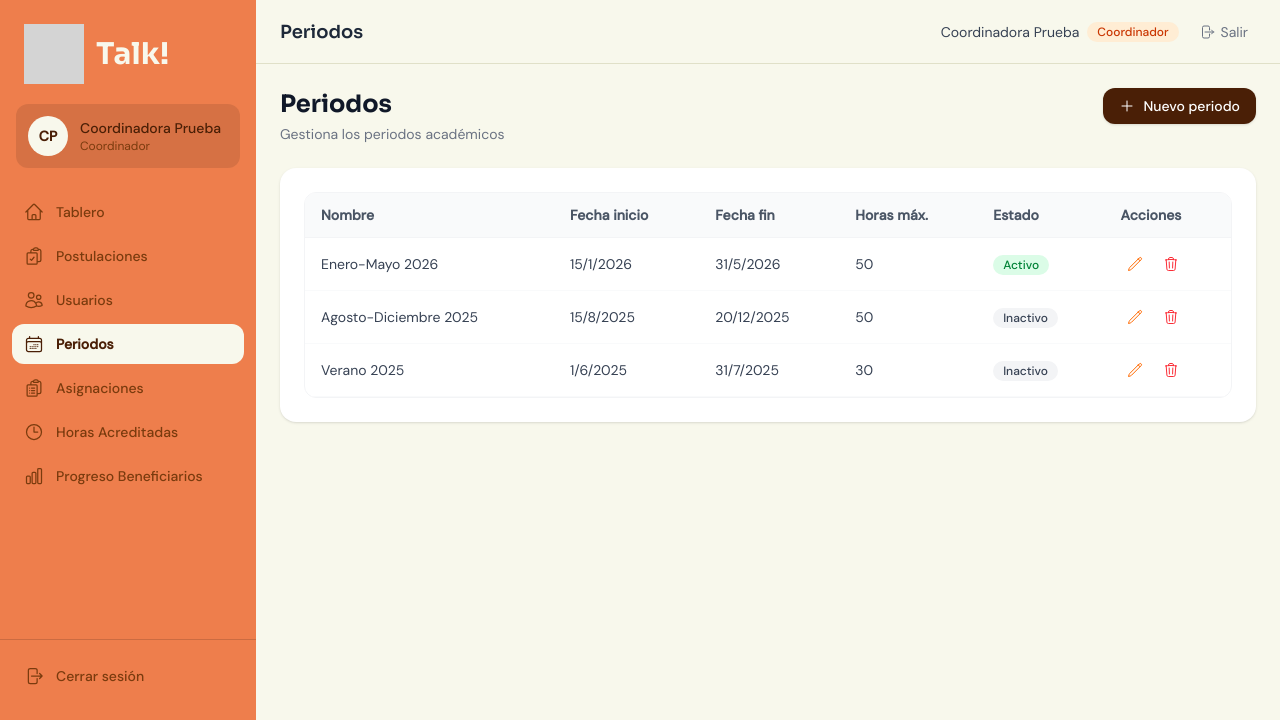
Test: Periodos › shows duplicate conflict feedback when creating periodo
This screenshot has width=1280, height=720.
Click the button "Nuevo periodo": click(1180, 106) [1103, 88, 1256, 124]
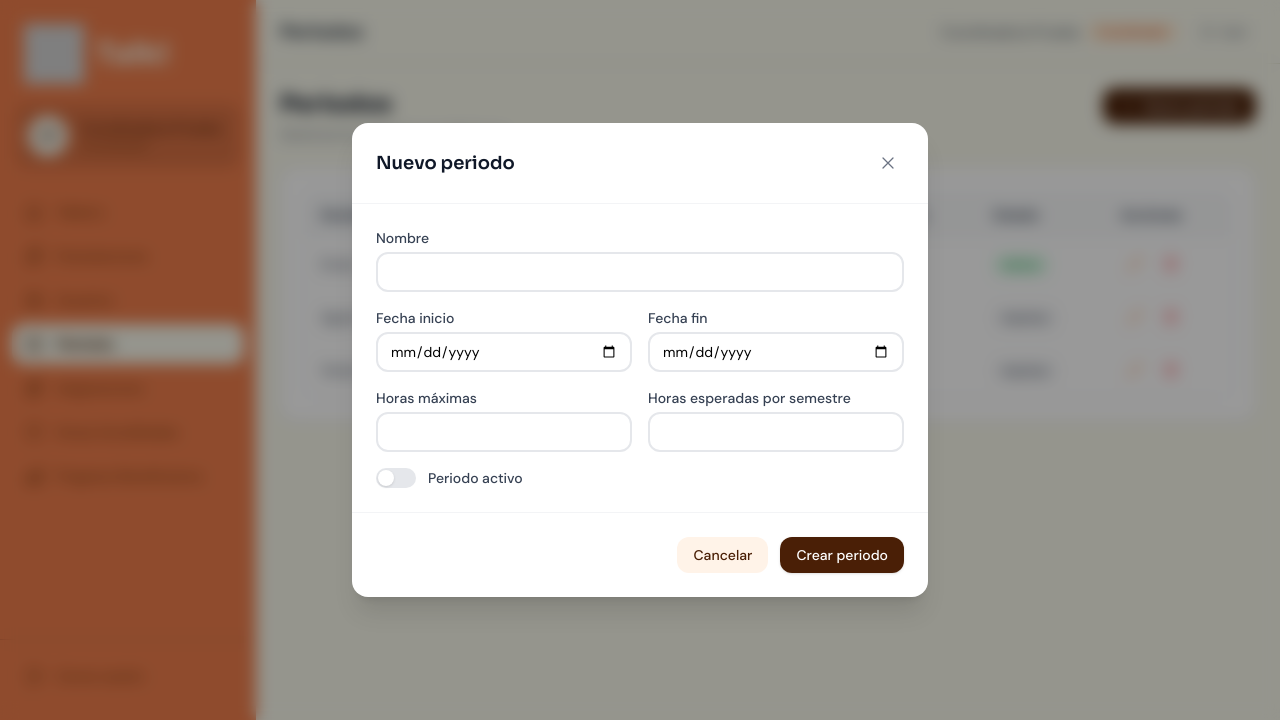
In the field named "nombre": (640, 272) [376, 252, 904, 292], type "Enero-Mayo 2026"
In the 1st date field named "fecha_inicio": (504, 352) [376, 332, 632, 372], type "2026-01-15"
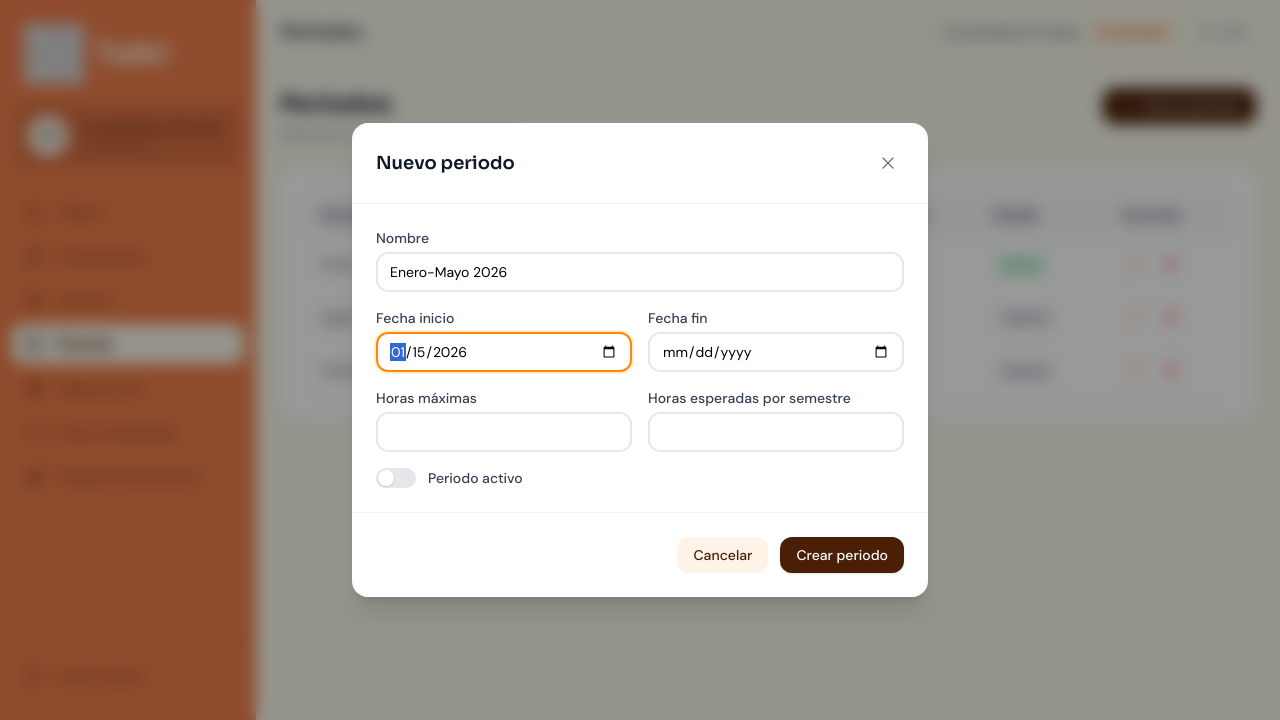
In the 2nd date field named "fecha_fin": (776, 352) [648, 332, 904, 372], type "2026-05-31"
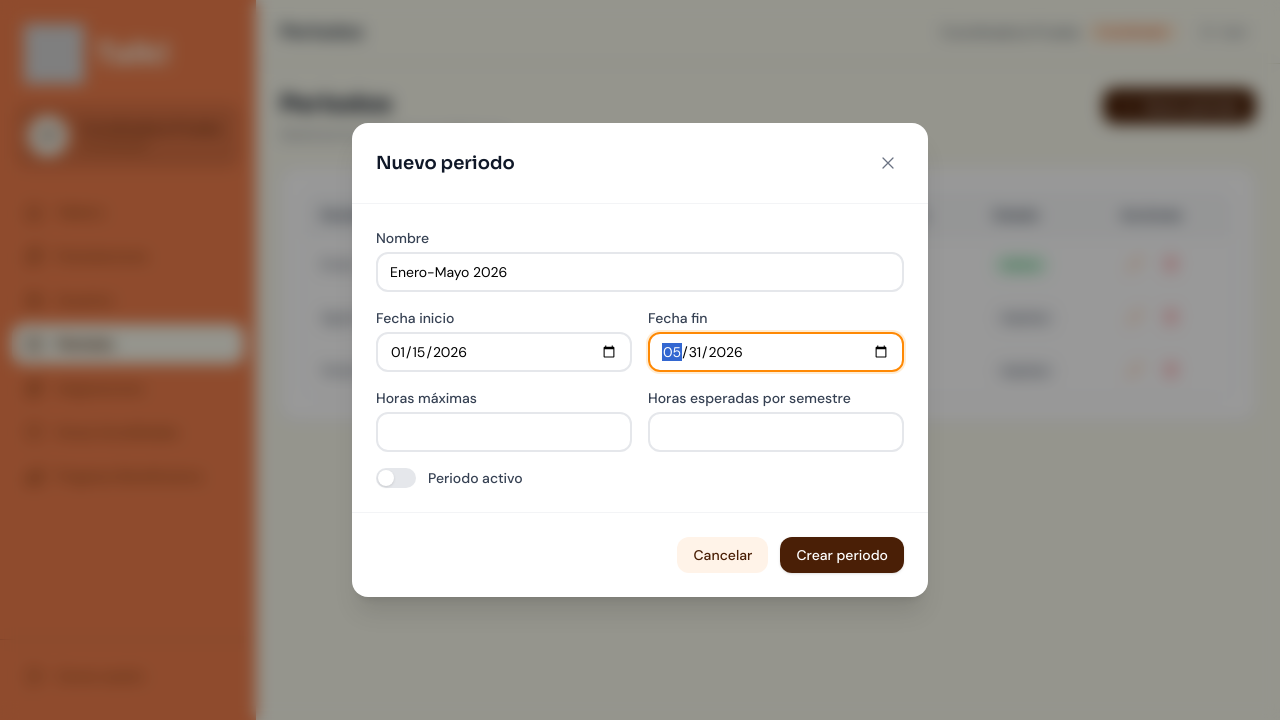
In the number field named "horas_max" below "Horas máximas": (504, 432) [376, 412, 632, 452], type "50"
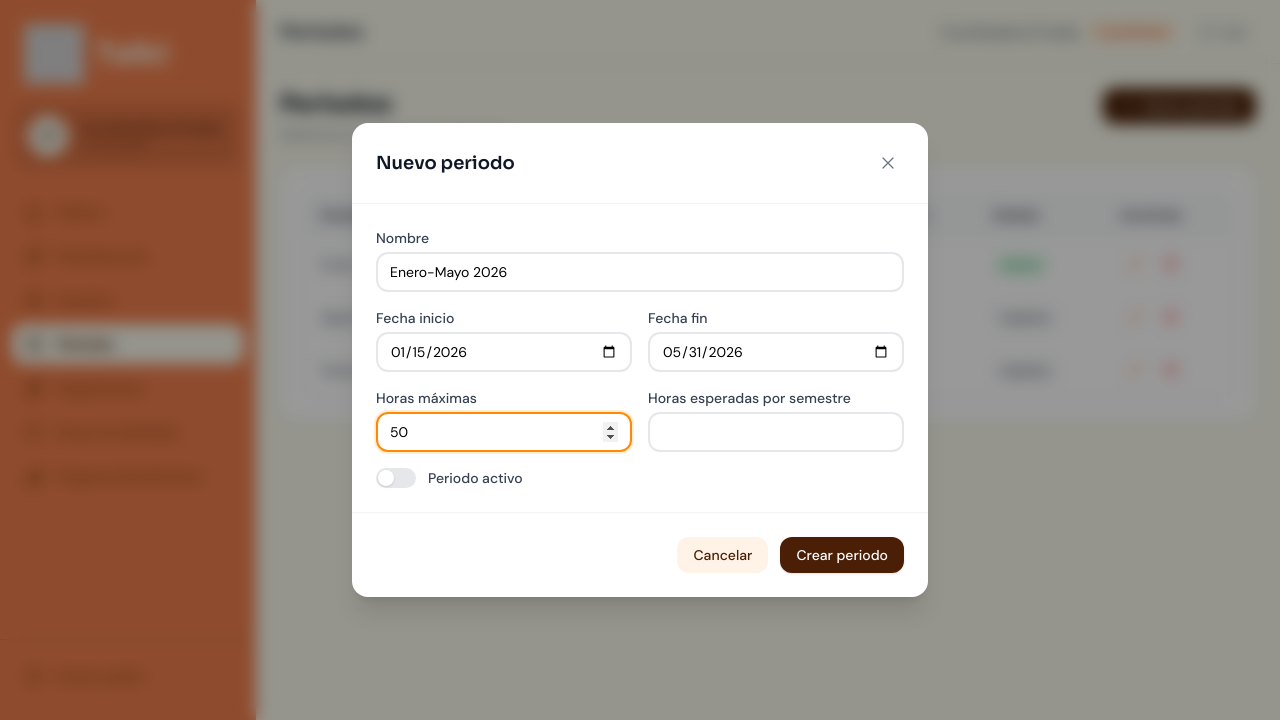
In the number field named "horas_esperadas" below "Horas esperadas por semestre": (776, 432) [648, 412, 904, 452], type "40"
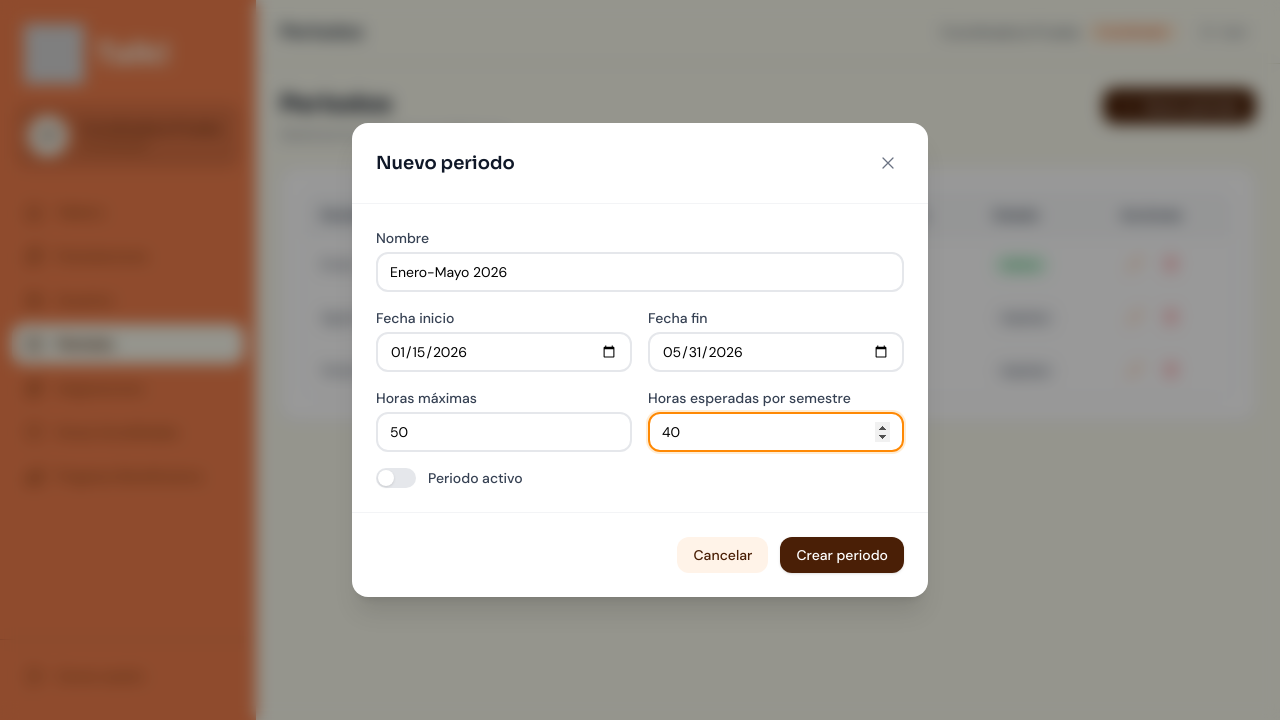
Click the button "Crear periodo": click(842, 555) [780, 537, 904, 573]
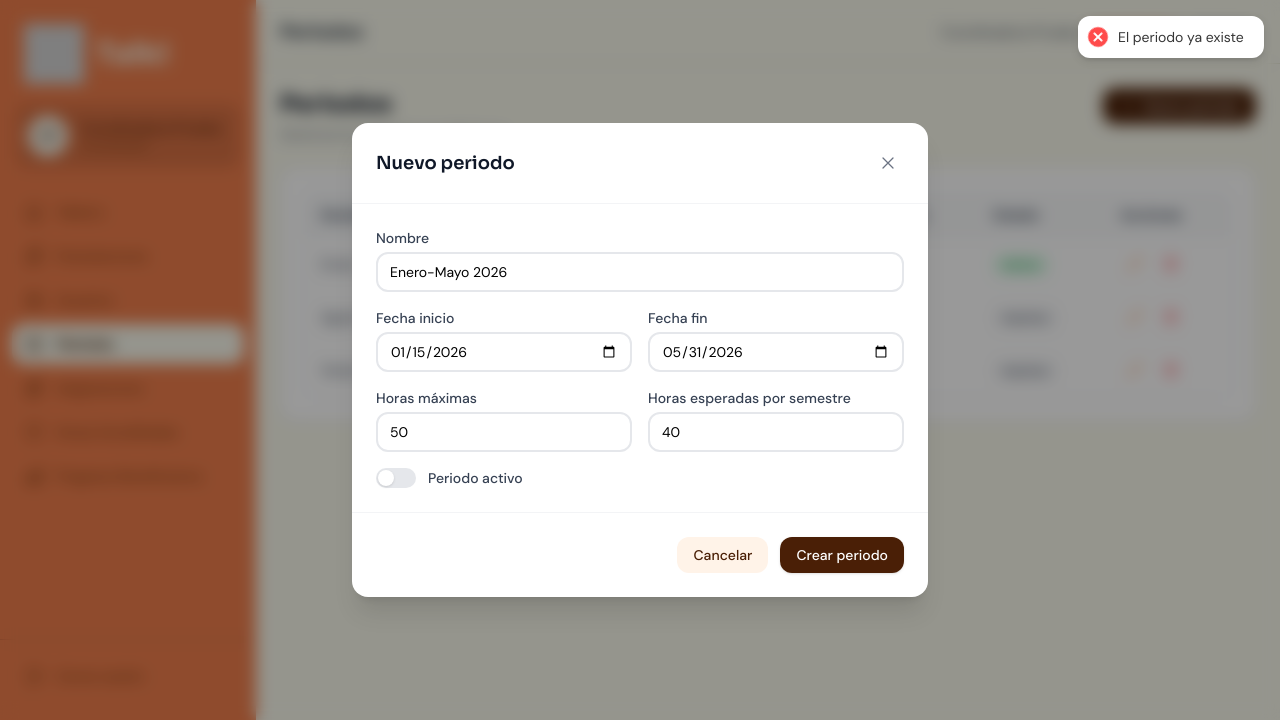
Result: the heading "Nuevo periodo" is shown at [376, 149, 515, 177]
Result: the text "El periodo ya existe" is shown at [1118, 28, 1244, 46]
